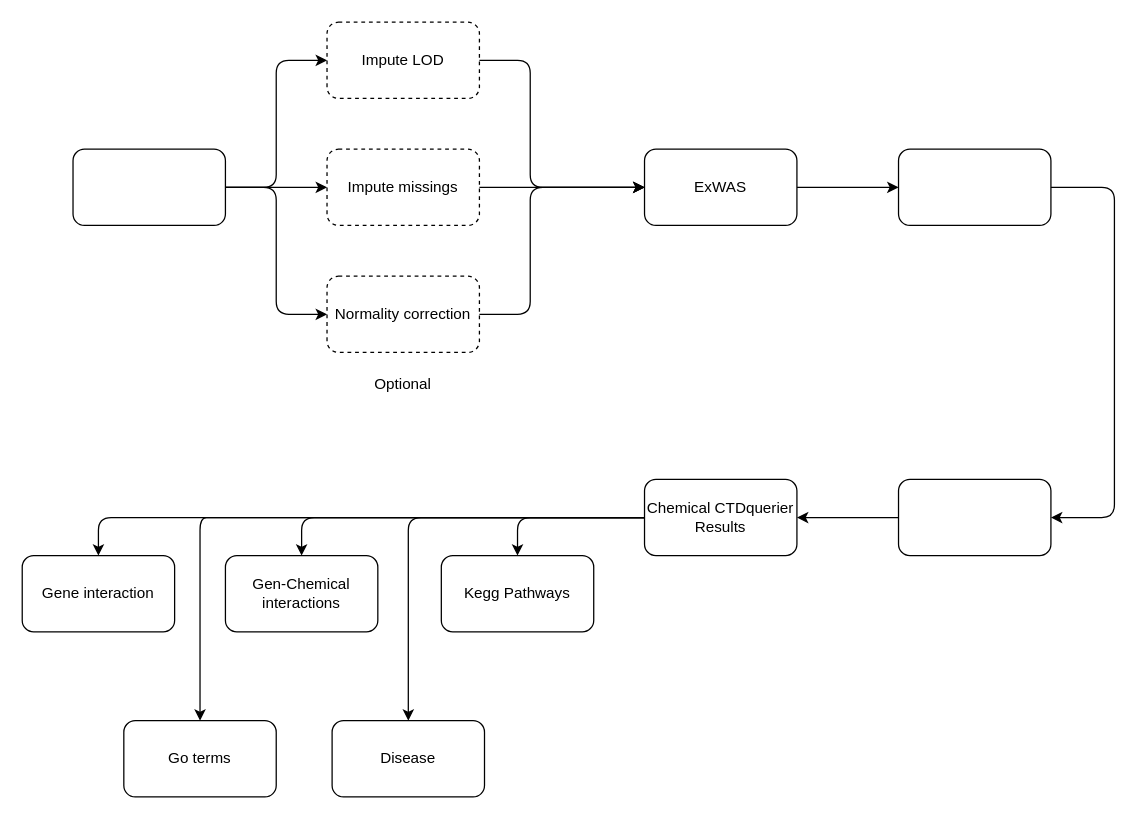
Image size: 1147x819. Some labels were removed from this diagram. Here are the shapes that lost their labels. From the top down, the centre of each, then its label:
At [148,186]: "Load data".
At [974,186]: "Plot parameters".
At [974,517]: "Interesting point selection, add to query".
